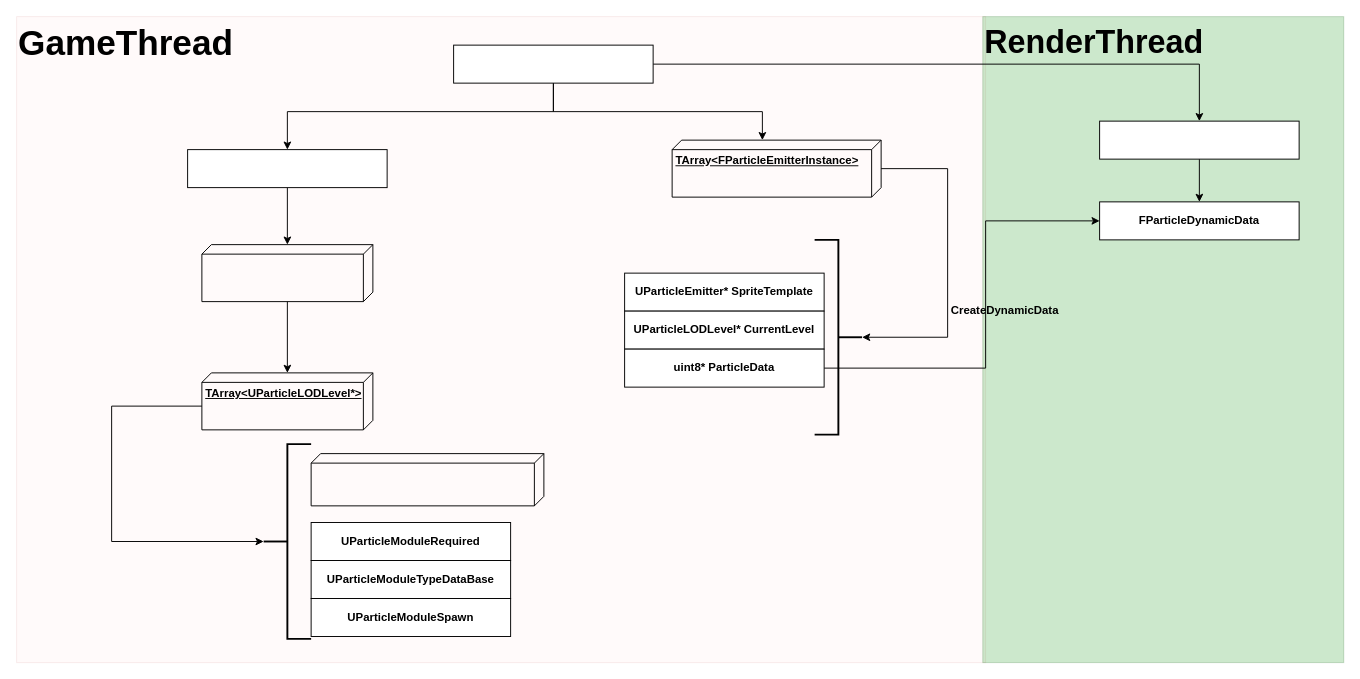
Image size: 1360x679. Some labels were removed from this diagram. The shapes that lost their labels are listed below. From the top down, each one's centre as x and y in pixels, then its label:
At pixel 553 63: "UParticleSystemComponent".
At pixel 1199 139: "FParticleSystemSceneProxy".
At pixel 287 168: "UParticleSystem".
At pixel 287 273: "TArray<UParticleEmitter*>".
At pixel 427 479: "TArray<class UParticleModule*>".
